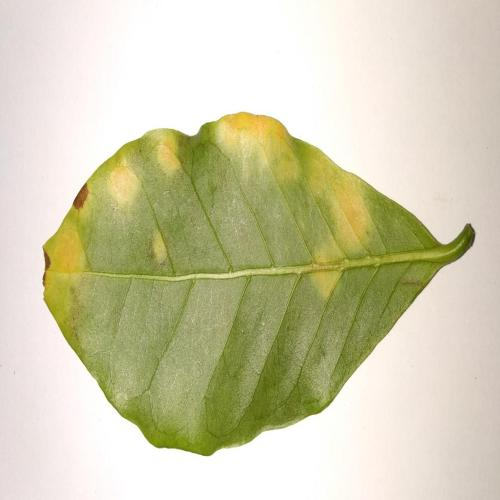leaf: (37, 97, 480, 461)
rust: (301, 140, 378, 297), (209, 109, 307, 187), (38, 223, 94, 333), (102, 148, 146, 213), (147, 128, 193, 183), (70, 176, 91, 217), (149, 225, 169, 267)
